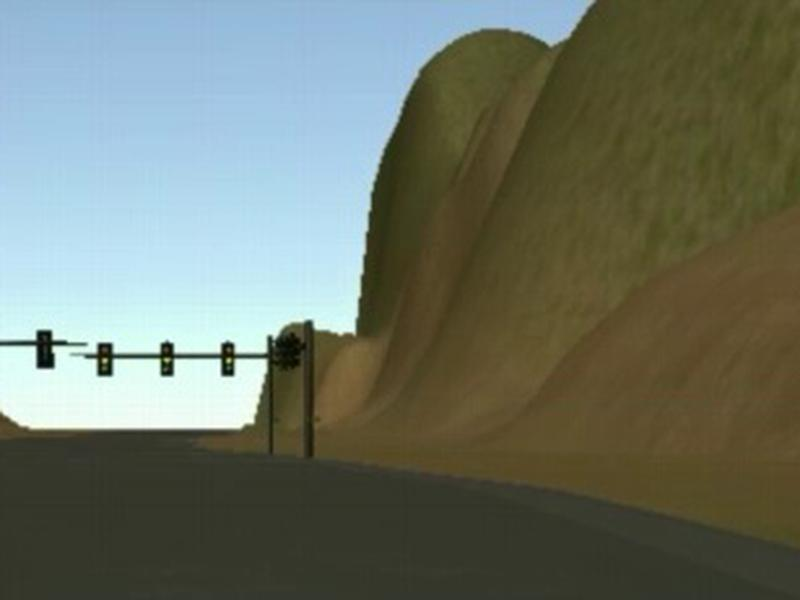Yellow: (96, 343, 111, 376), (160, 342, 174, 376), (221, 342, 233, 376)
